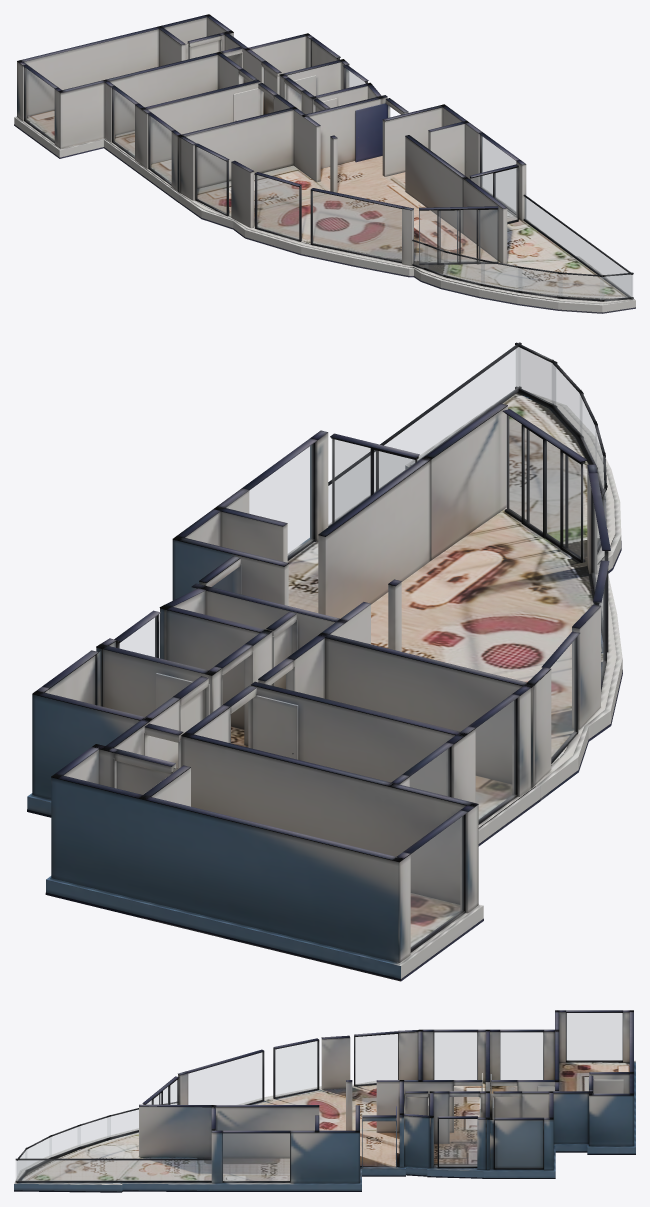
3 views of the same model, one above another, from view 1: azimuth 30°, elevation 25°; view 2: azimuth 150°, elevation 25°; view 3: azimuth 270°, elevation 25° (orthographic). The views are drawn at different scales.
Visible parts, largest first — view 1: plan, glass5_m, glass6_m, railg0_m, glass4_m, glass3_m, glass7_m, glass0_m, glass8_m, glass1_m, glass2_m, railg2_m (+5 smaller); view 2: plan, railg0_m, glass6_m, glass0_m, glass7_m, glass2_m, glass8_m, glass3_m, railg1_m, railg2_m, glass1_m, glass10_m; view 3: plan, railg0_m, glass7_m, glass5_m, glass0_m, glass9_m, glass1_m, glass2_m, glass4_m, glass3_m, glass10_m, railg4_m (+4 smaller).
Part boxes in pixels (<box>): plan: <box>14,14,635,313</box>; glass5_m: <box>312,191,401,261</box>; glass6_m: <box>419,210,497,262</box>; railg0_m: <box>524,197,632,297</box>; glass4_m: <box>257,175,298,239</box>; glass3_m: <box>196,147,226,213</box>; glass7_m: <box>481,136,515,212</box>; glass0_m: <box>25,68,54,140</box>; glass8_m: <box>470,168,517,221</box>; glass1_m: <box>113,89,134,156</box>; glass2_m: <box>150,116,171,182</box>; railg2_m: <box>558,274,603,299</box>; plan: <box>27,342,622,981</box>; railg0_m: <box>328,347,519,526</box>; glass6_m: <box>506,414,583,559</box>; glass0_m: <box>411,816,463,948</box>; glass7_m: <box>249,444,312,556</box>; glass2_m: <box>476,700,515,820</box>; glass8_m: <box>332,439,417,523</box>; glass3_m: <box>550,639,575,758</box>; railg1_m: <box>516,347,555,405</box>; railg2_m: <box>552,363,581,435</box>; glass1_m: <box>410,748,449,796</box>; glass10_m: <box>120,617,156,656</box>; plan: <box>14,1010,635,1192</box>; railg0_m: <box>16,1160,211,1180</box>; glass7_m: <box>223,1133,289,1180</box>; glass5_m: <box>188,1052,262,1104</box>; glass0_m: <box>567,1013,622,1060</box>; glass9_m: <box>495,1121,542,1167</box>; glass1_m: <box>500,1032,542,1079</box>; glass2_m: <box>434,1032,476,1079</box>; glass4_m: <box>275,1041,317,1096</box>; glass3_m: <box>355,1034,397,1084</box>; glass10_m: <box>439,1119,476,1166</box>; railg4_m: <box>78,1117,110,1146</box>.
Size of the model in its own units: 11.91 by 2.62 by 25.15.
2 materials, 1 textured.
